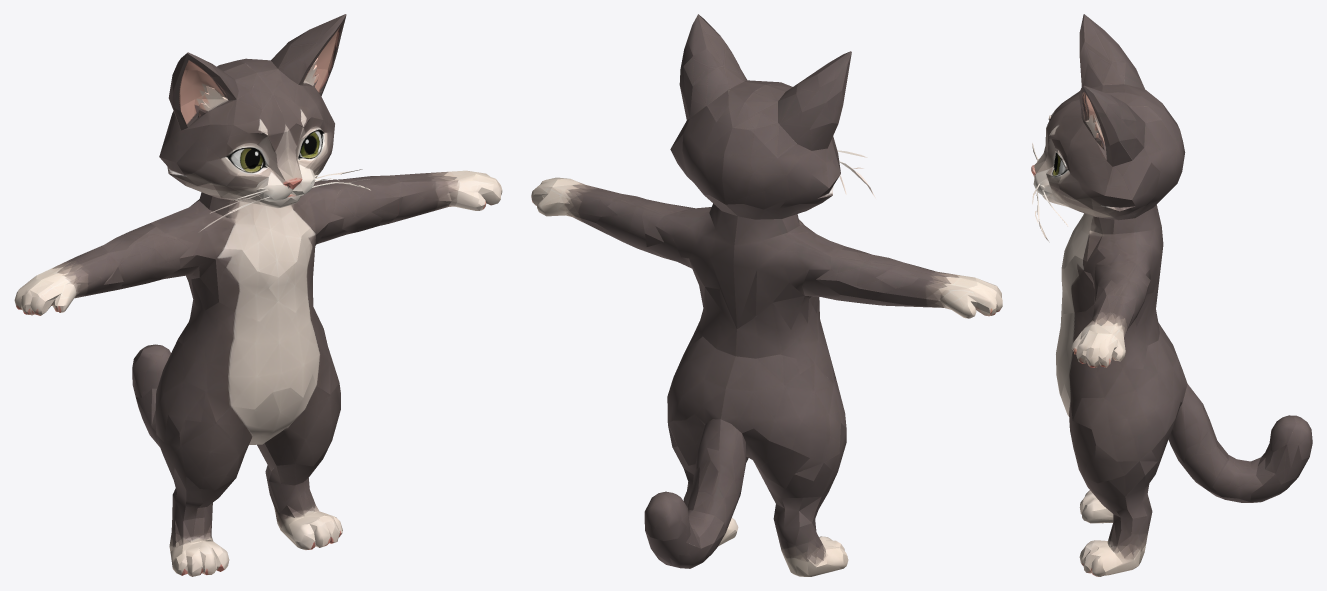
File: cat-tpose.glb
3 renders of one model, left to right at view 1: azimuth 30°, elevation 25°; view 2: azimuth 150°, elevation 25°; view 3: azimuth 270°, elevation 25°, orthographic. The views are drawn at different scales.
Parts seen in each view (by area): view 1: output_unwrapped; view 2: output_unwrapped; view 3: output_unwrapped.
Part boxes in pixels (<box>): output_unwrapped: <box>14,14,502,576</box>; output_unwrapped: <box>531,14,1002,576</box>; output_unwrapped: <box>1031,14,1312,576</box>.
Bounding box in the file's own units: 1.8 × 1.9 × 0.9855.
Materials: 1 (1 with a texture image).
